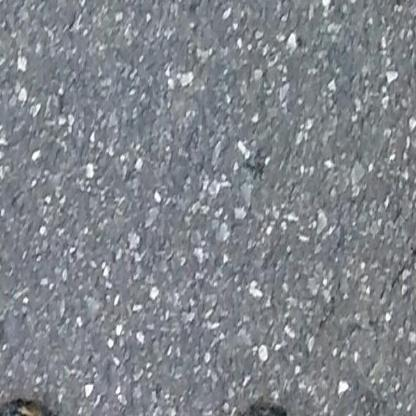Cracks: (0, 397, 91, 416), (253, 405, 336, 416)
